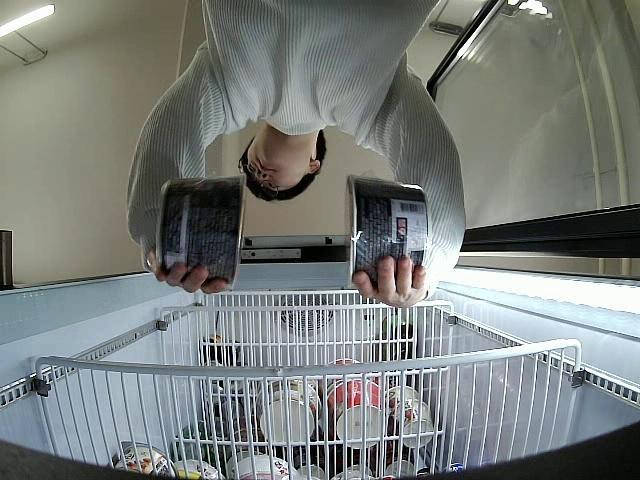07_buldak_L: (154, 172, 245, 290), (341, 174, 428, 286)
